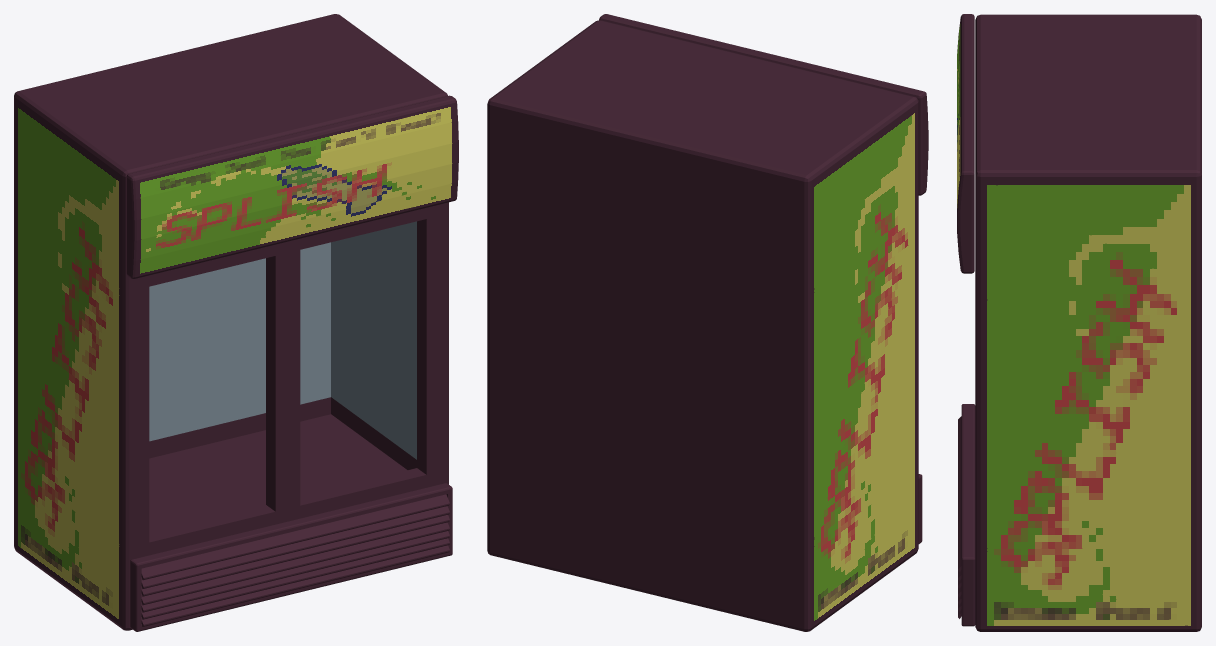
The model's file is Cooler.glb.
3 views of the same model, side by side, from view 1: azimuth 30°, elevation 25°; view 2: azimuth 150°, elevation 25°; view 3: azimuth 270°, elevation 25° (orthographic).
Visible parts, largest first — view 1: Cooler; view 2: Cooler; view 3: Cooler.
Part boxes in pixels (bbox=[...]): Cooler: bbox=[14, 14, 458, 631]; Cooler: bbox=[487, 14, 928, 631]; Cooler: bbox=[957, 14, 1201, 631].
Size of the model in its own units: 2 by 2.7 by 1.3.
1 material, 1 textured.
